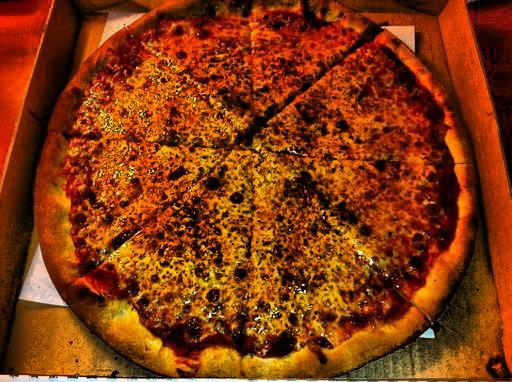pizza: (40, 3, 512, 382)
